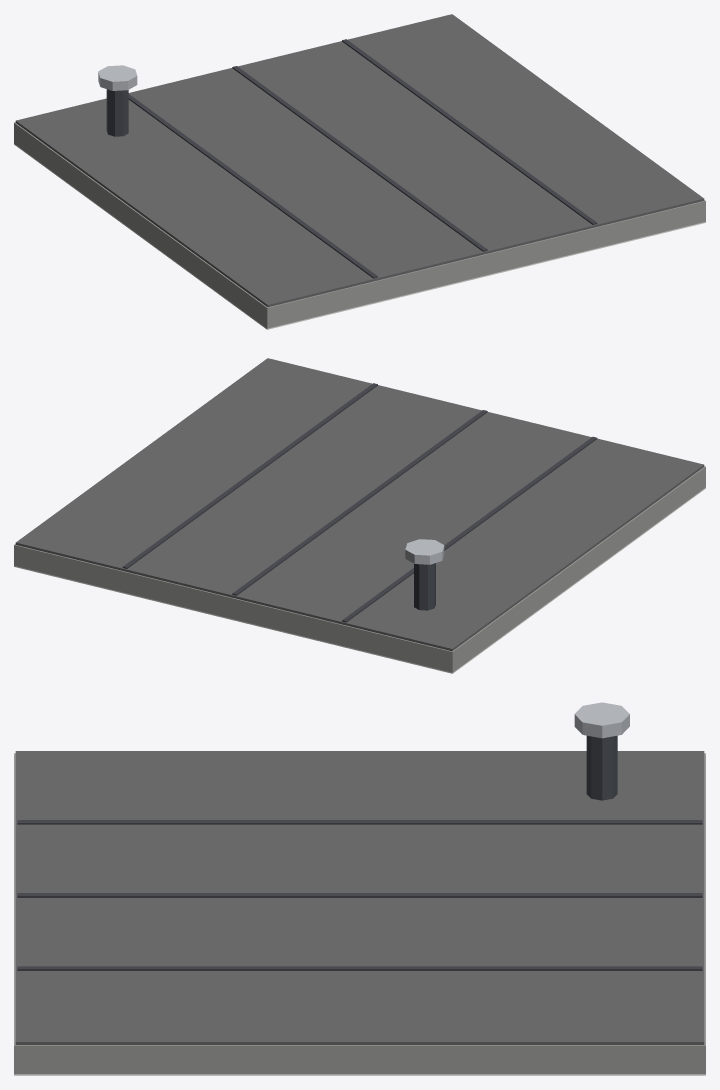
File: Mart_Roof_Flat_4m.fbx
3 renders of one model, top to bottom at view 1: azimuth 30°, elevation 25°; view 2: azimuth 150°, elevation 25°; view 3: azimuth 270°, elevation 25°, orthographic. The views are drawn at different scales.
Visible parts, largest first — view 1: Mart_Roof_Flat_4m; view 2: Mart_Roof_Flat_4m; view 3: Mart_Roof_Flat_4m.
Boxes of the visible parts, bbox=[...] form: Mart_Roof_Flat_4m: bbox=[14, 14, 705, 329]; Mart_Roof_Flat_4m: bbox=[14, 358, 705, 673]; Mart_Roof_Flat_4m: bbox=[14, 702, 705, 1075].
Size of the model in its own units: 4 by 0.756 by 4.
Materials: 1 (1 with a texture image).
